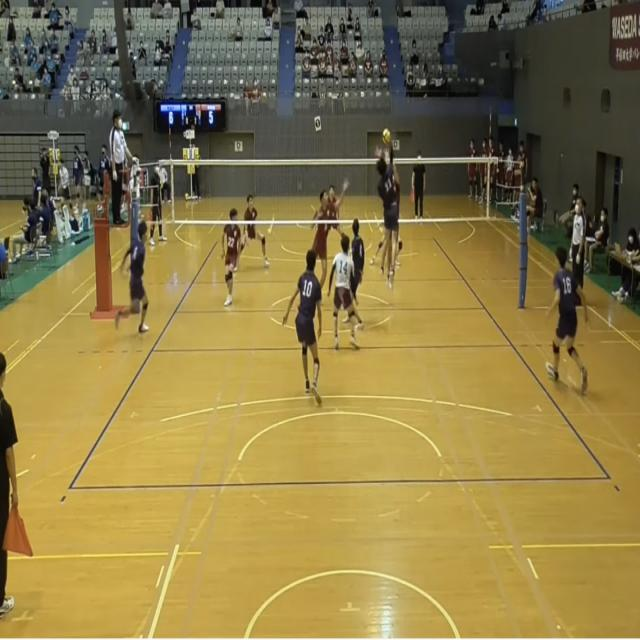spike: (373, 118, 406, 292)
